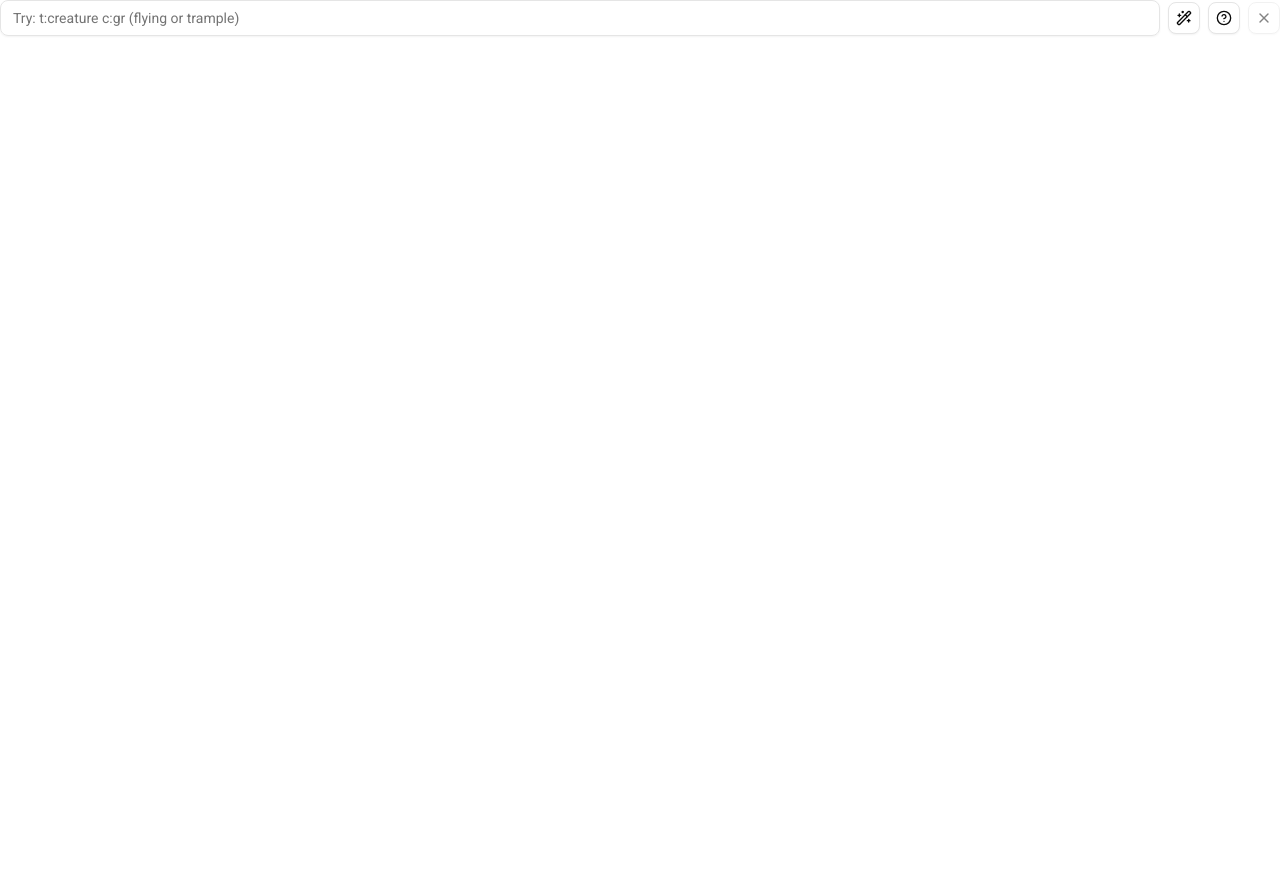
Test: CardSearchBar › toggles the docked docs panel from the Help button
The width and height of the screenshot is (1280, 887).
Expected: the text "Search syntax" is not shown
Click the button named "Search help".
click(1224, 18)  # box [1208, 2, 1240, 34]
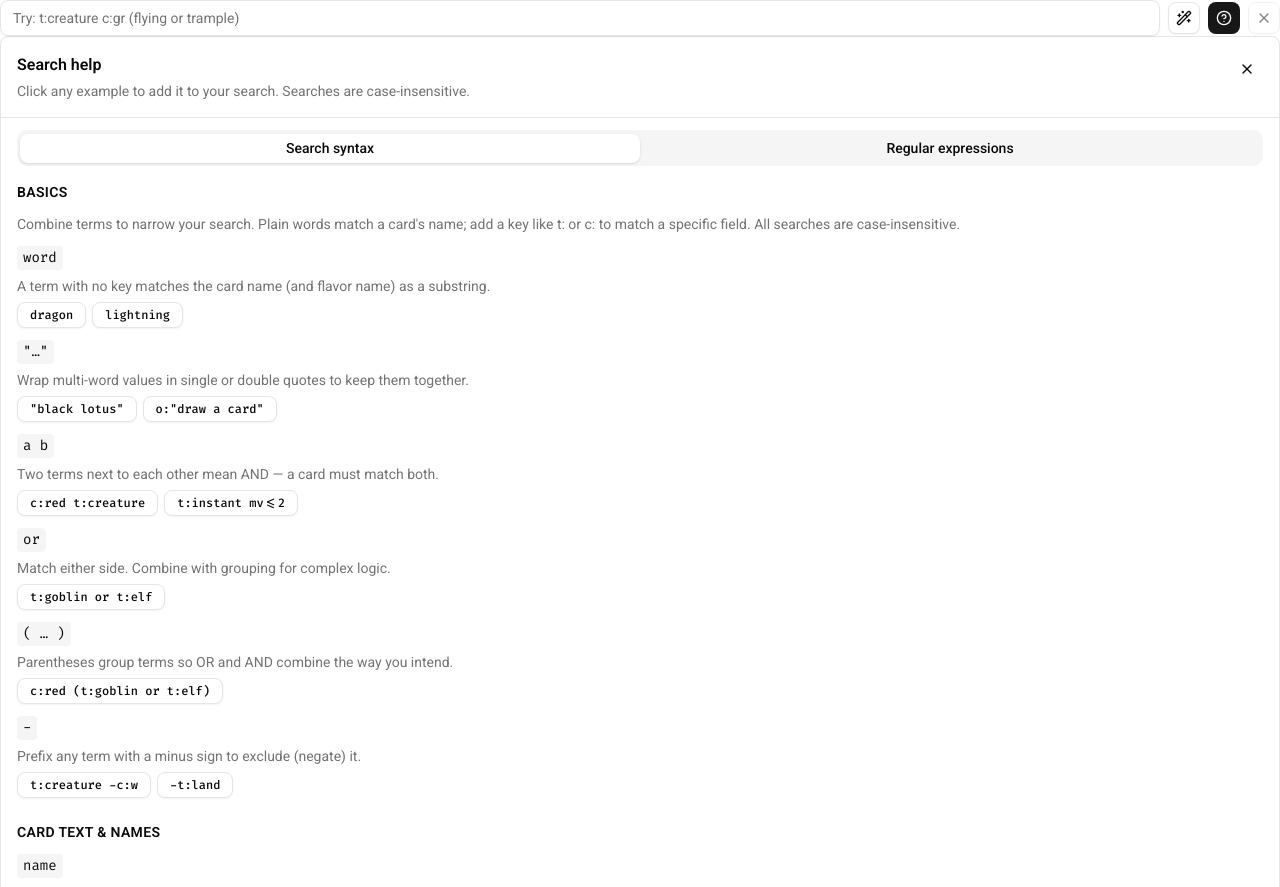
Now the tab "Search syntax" is shown, box [20, 134, 640, 162]
# Clicking Help again closes it.
Click the button named "Search help".
click(1224, 18)  # box [1208, 2, 1240, 34]
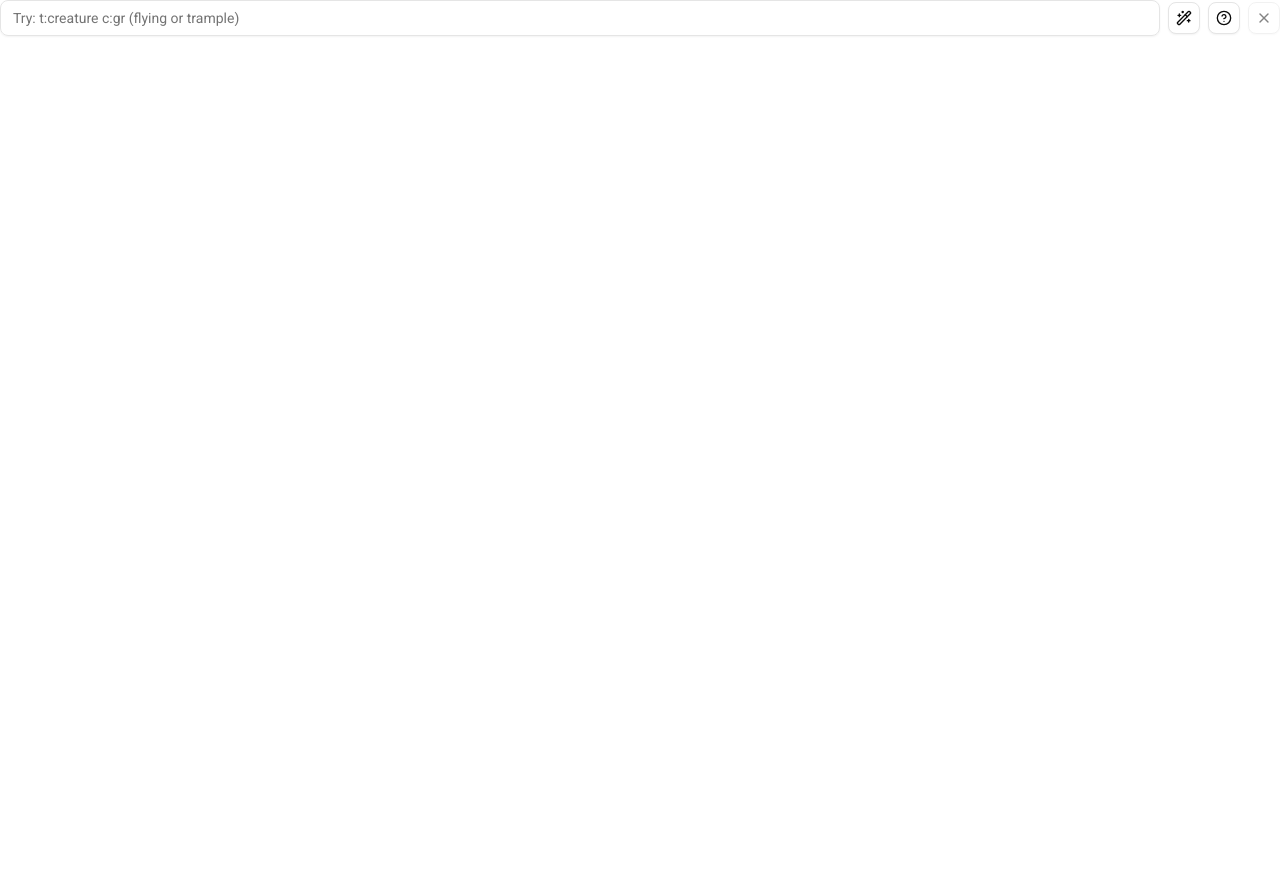
Now the tab "Search syntax" is gone
